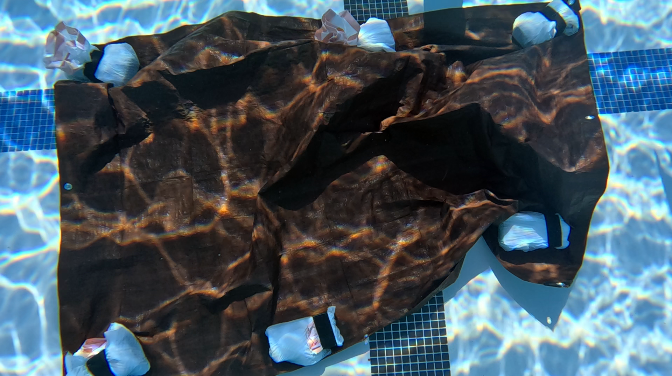sandbag: (42, 0, 611, 375)
